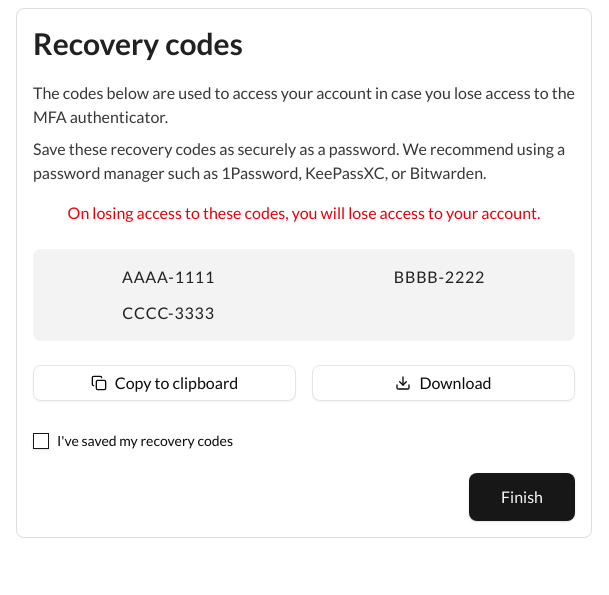
Test: MfaRecoveryCodesList template › finishing › explains what is missing when finishing without ticking the confirmation
This screenshot has width=609, height=595.
Click the button "Finish".
click(522, 497)  # box [469,473,575,521]
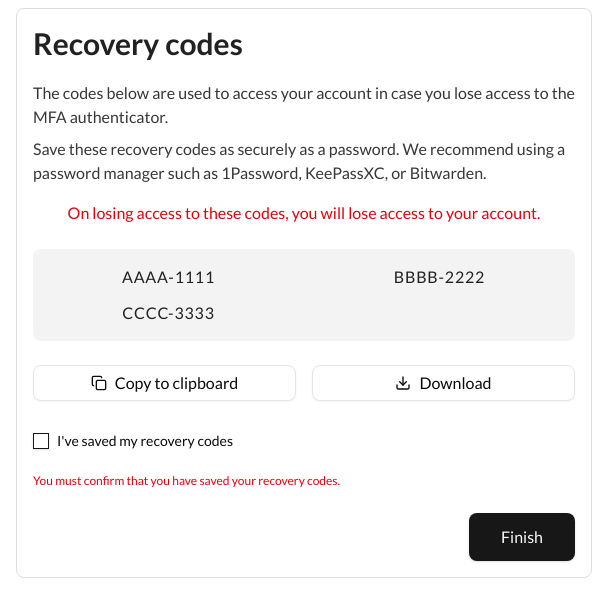
Now the text "You must confirm that you have saved your recovery codes." is shown, box [33,473,340,488]
